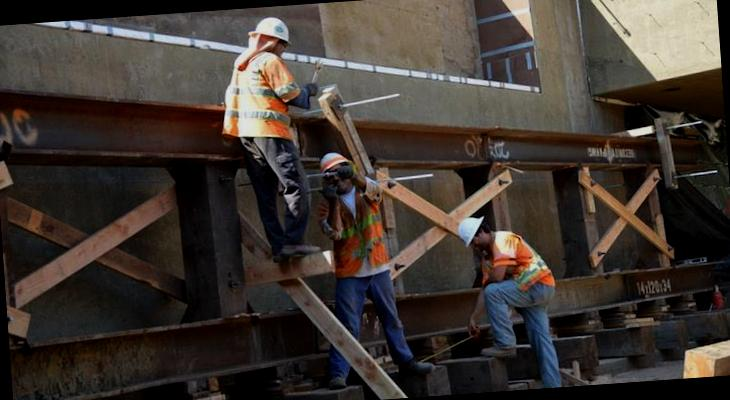helmet: (451, 210, 497, 252), (250, 13, 298, 44), (315, 148, 350, 173)
person: (211, 6, 329, 266), (312, 144, 406, 395), (454, 207, 570, 394)
